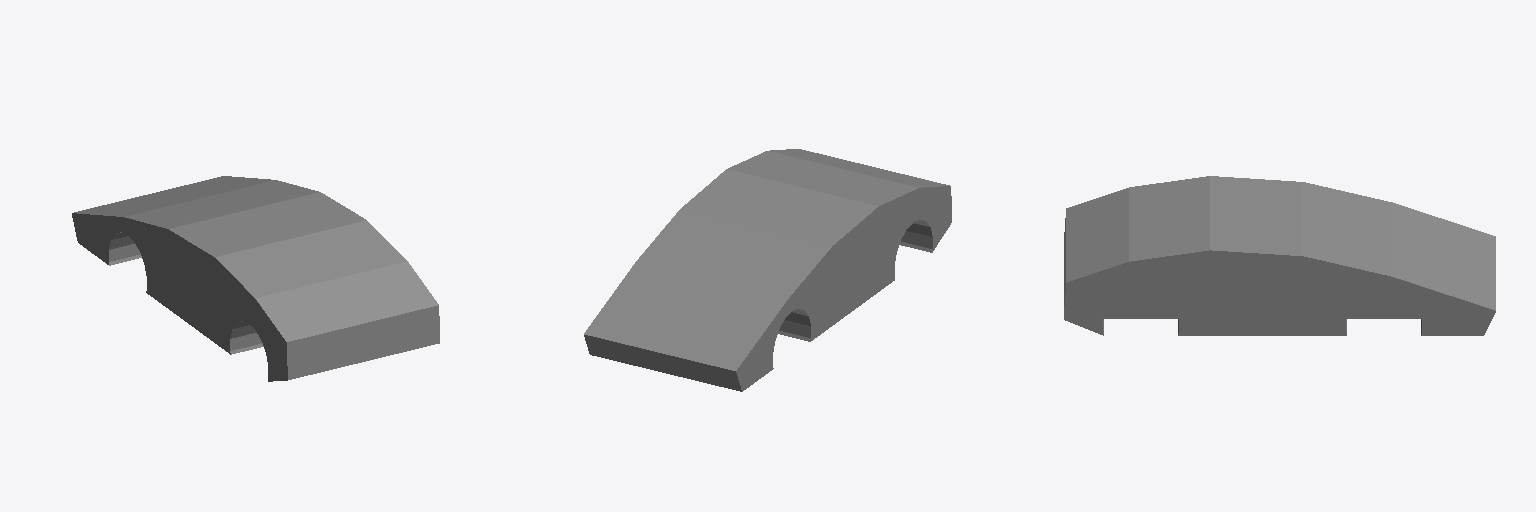
Rendered from car.obj.
The picture shows the model from 3 angles: view 1: azimuth 30°, elevation 25°; view 2: azimuth 150°, elevation 25°; view 3: azimuth 270°, elevation 25°; orthographic projection.
Visible parts, largest first — view 1: Line003; view 2: Line003; view 3: Line003.
Boxes of the visible parts, x1,y1,x2,y2 form: Line003: [72, 176, 439, 381]; Line003: [584, 149, 951, 391]; Line003: [1064, 176, 1495, 335].
Bounding box in the file's own units: 2 × 1.07 × 4.92.